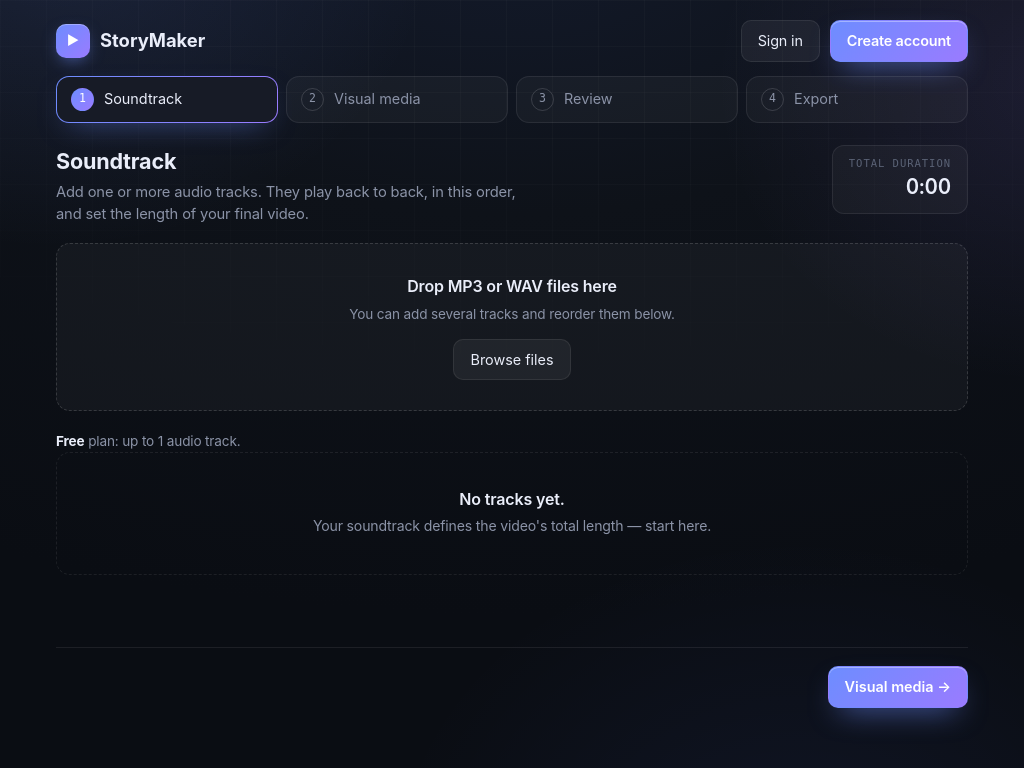
Scenario: App shell › navigates between stages via the stepper
The image size is (1024, 768).
Click the button "3 Review": (627, 99) top-left (516, 76), bottom-right (738, 123)
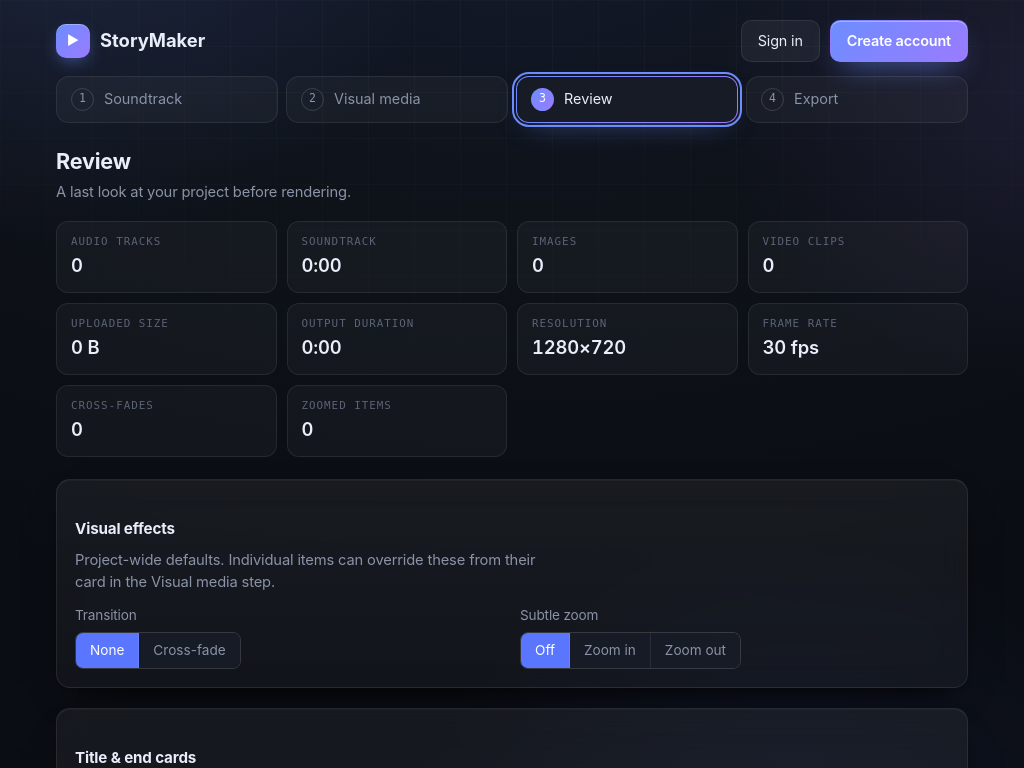
Now the heading "Review" is shown, box top-left (56, 148), bottom-right (131, 174)
